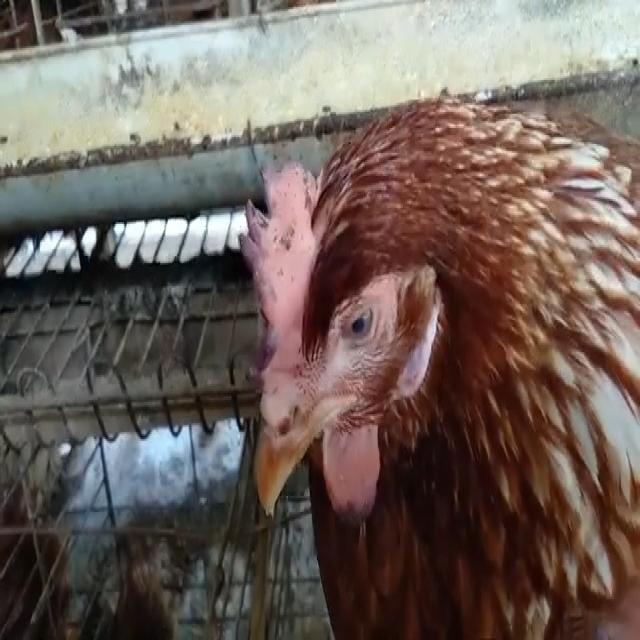bird flu: (234, 85, 640, 640)
